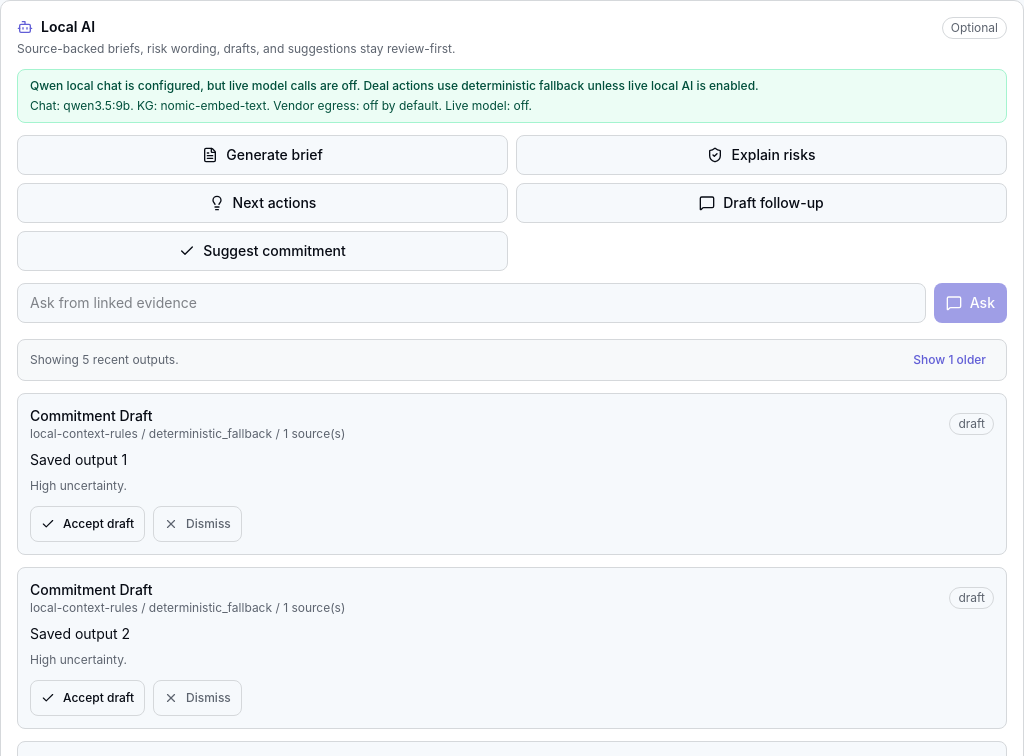
it: DealLocalAiPanel › collapses older saved outputs behind a history toggle
Click the button "Show 1 older": x=950, y=360 [905,348,994,372]
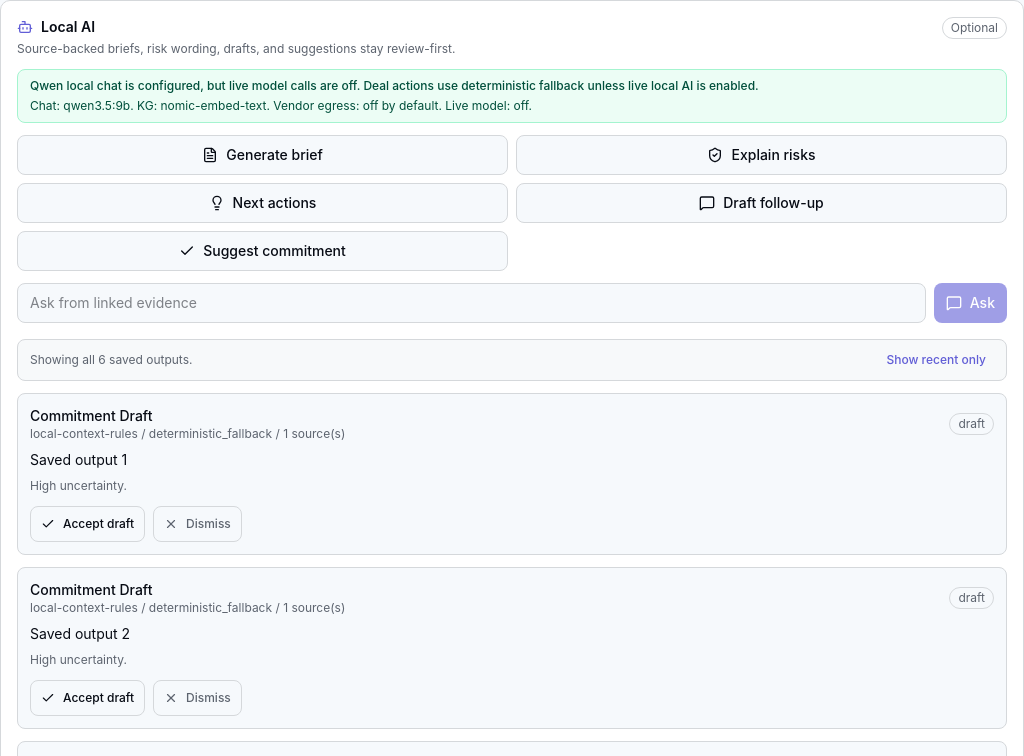
Expected: the button "Show recent only" is shown, [878,348,994,372]
